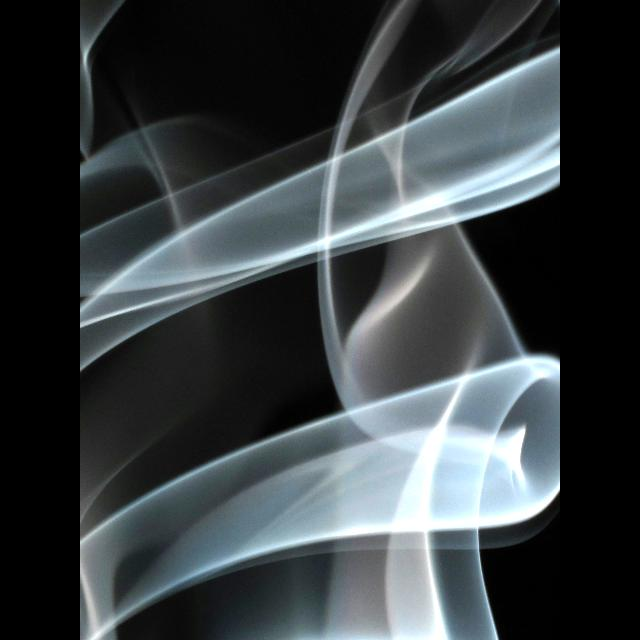smoke: (80, 0, 560, 640)
